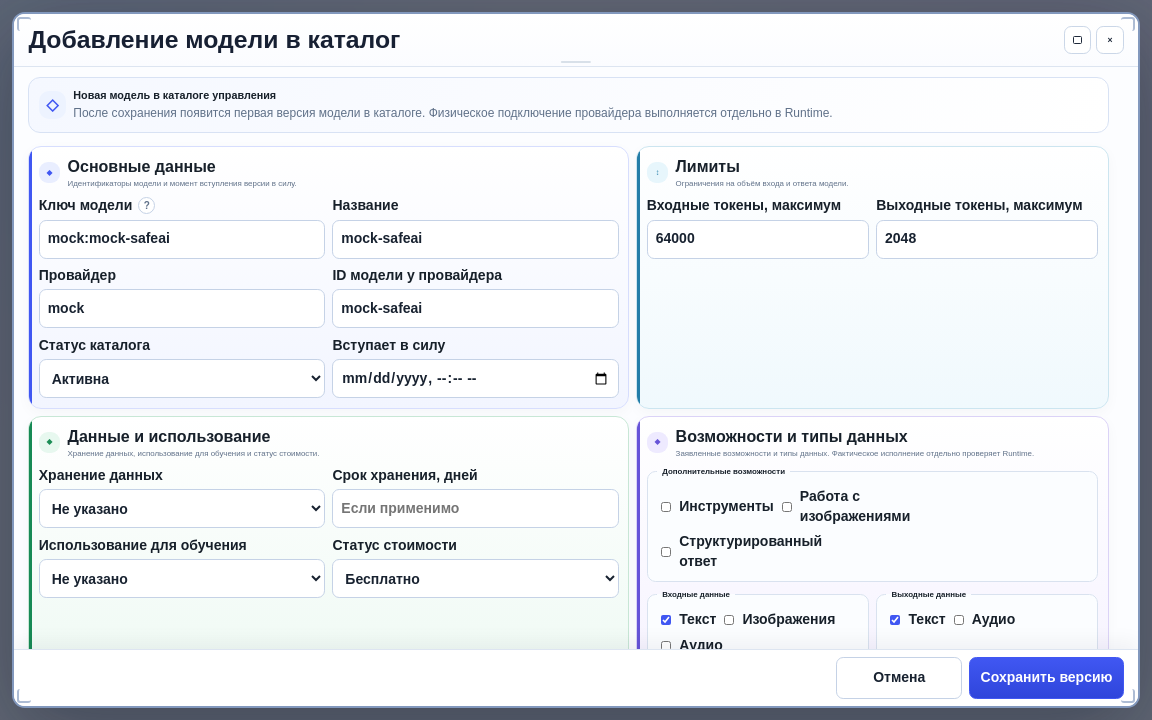
ModelCatalogVersionModal — production regression › показывает ошибку валидации и не вызывает API
Replace the text in the field labelled "Входные токены, максимум" with "0" at point(758, 239), box [647,220,869,259]
(page scrolled)
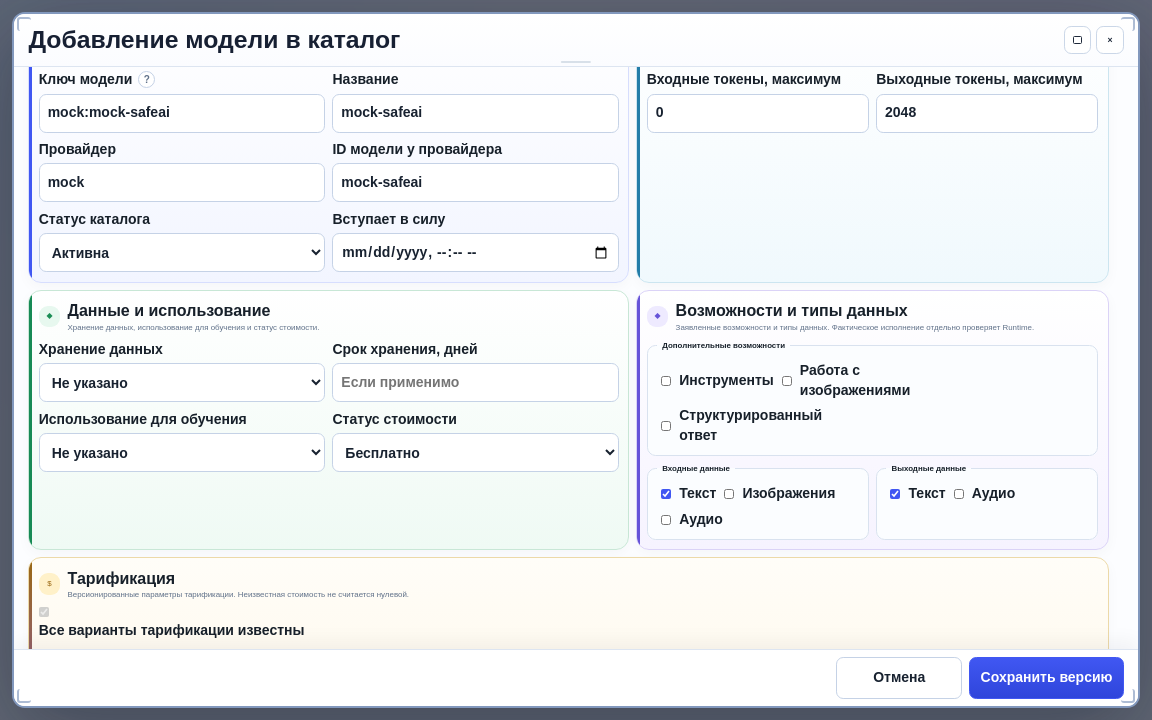
Submit the form with class "models-catalog-form"
(page scrolled)
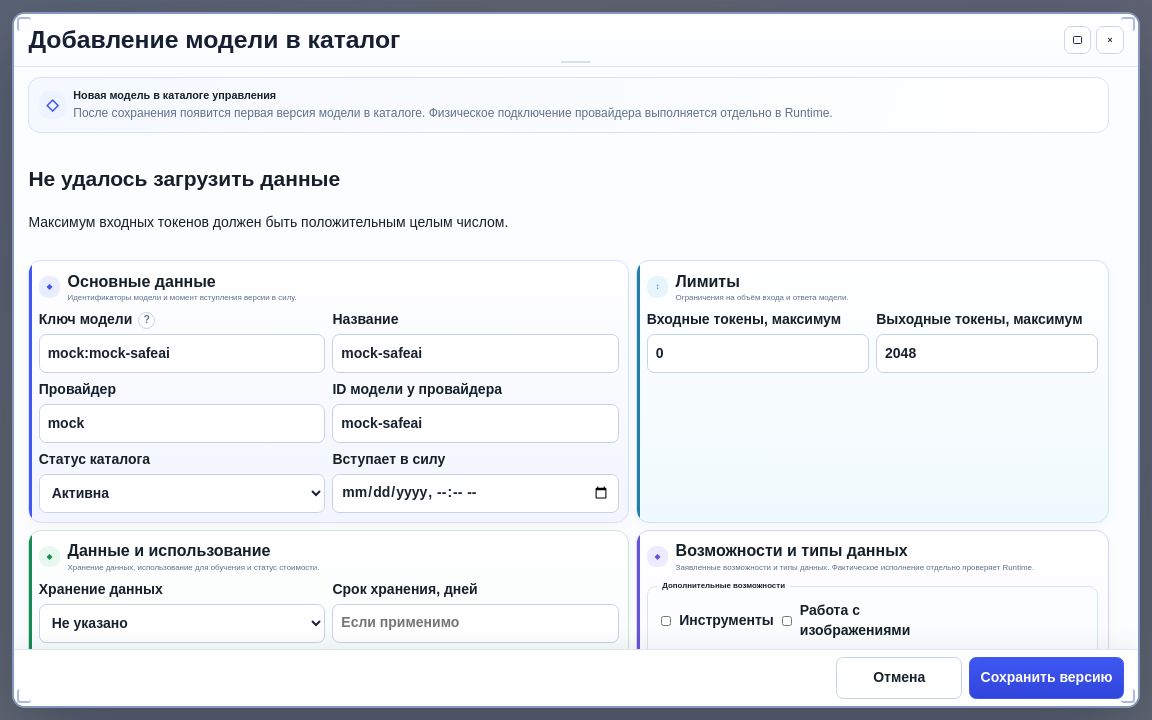
Check: the text "Максимум входных токенов" is shown, box [28,214,508,230]
